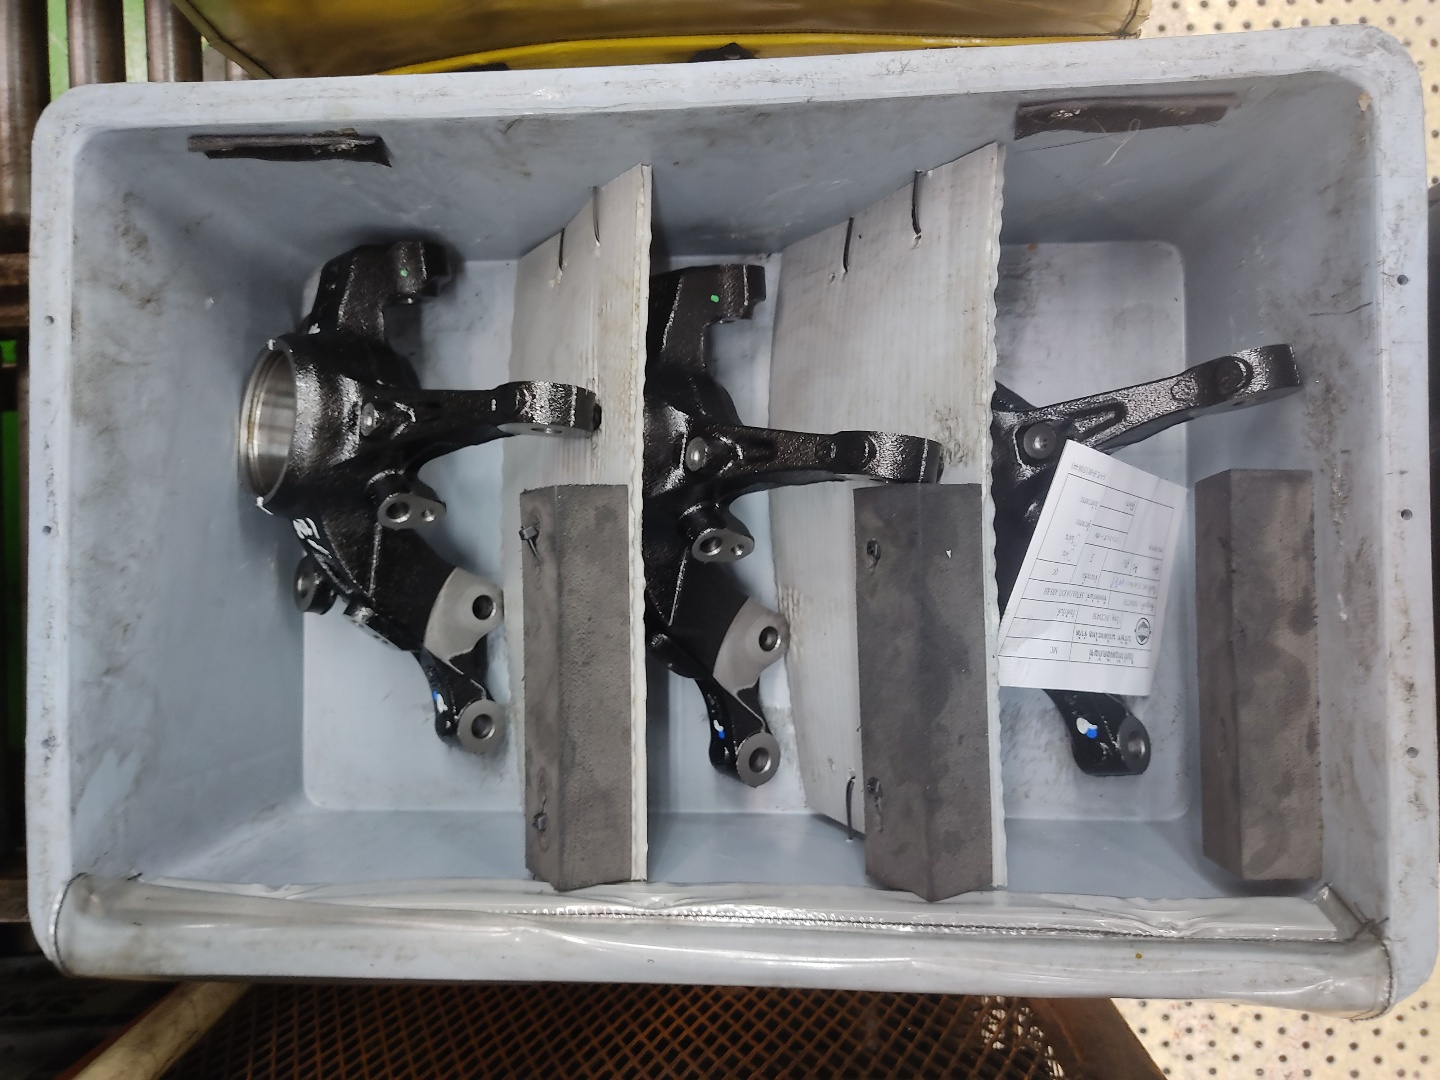abs-rh: (229, 223, 608, 768), (957, 252, 1318, 786), (637, 252, 951, 802)
